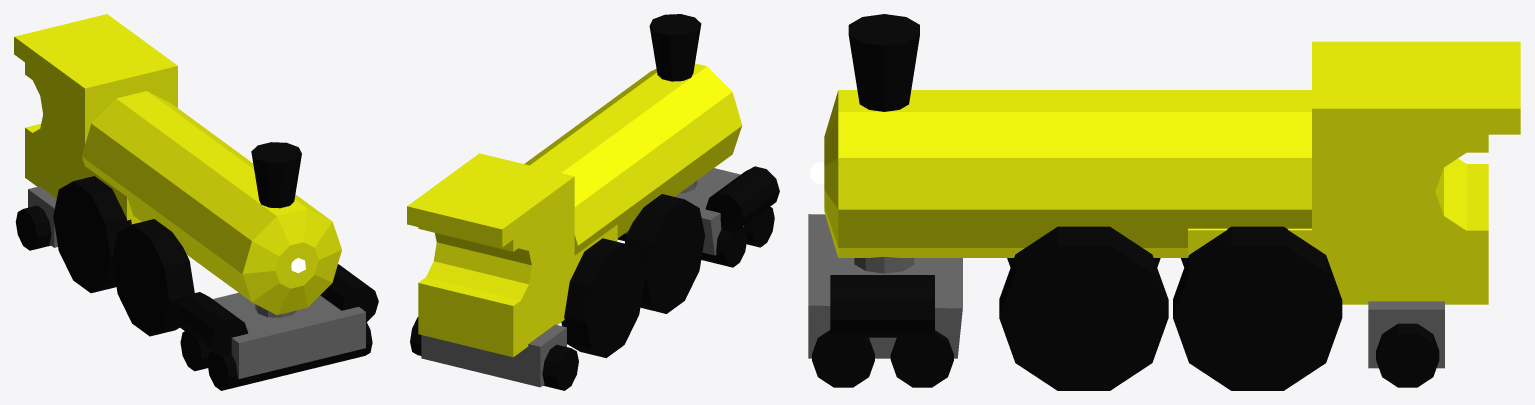
The model's file is Atlantic.glb.
3 views of the same model, side by side, from view 1: azimuth 30°, elevation 25°; view 2: azimuth 150°, elevation 25°; view 3: azimuth 270°, elevation 25° (orthographic). The views are drawn at different scales.
Parts seen in each view (by area): view 1: Atlantic; view 2: Atlantic; view 3: Atlantic.
Boxes of the visible parts, x1=… form: Atlantic: x1=14, y1=14, x2=378, y2=390; Atlantic: x1=407, y1=14, x2=779, y2=390; Atlantic: x1=808, y1=14, x2=1520, y2=390.
Bounding box in the file's own units: 2.64 × 3.16 × 6.59.
